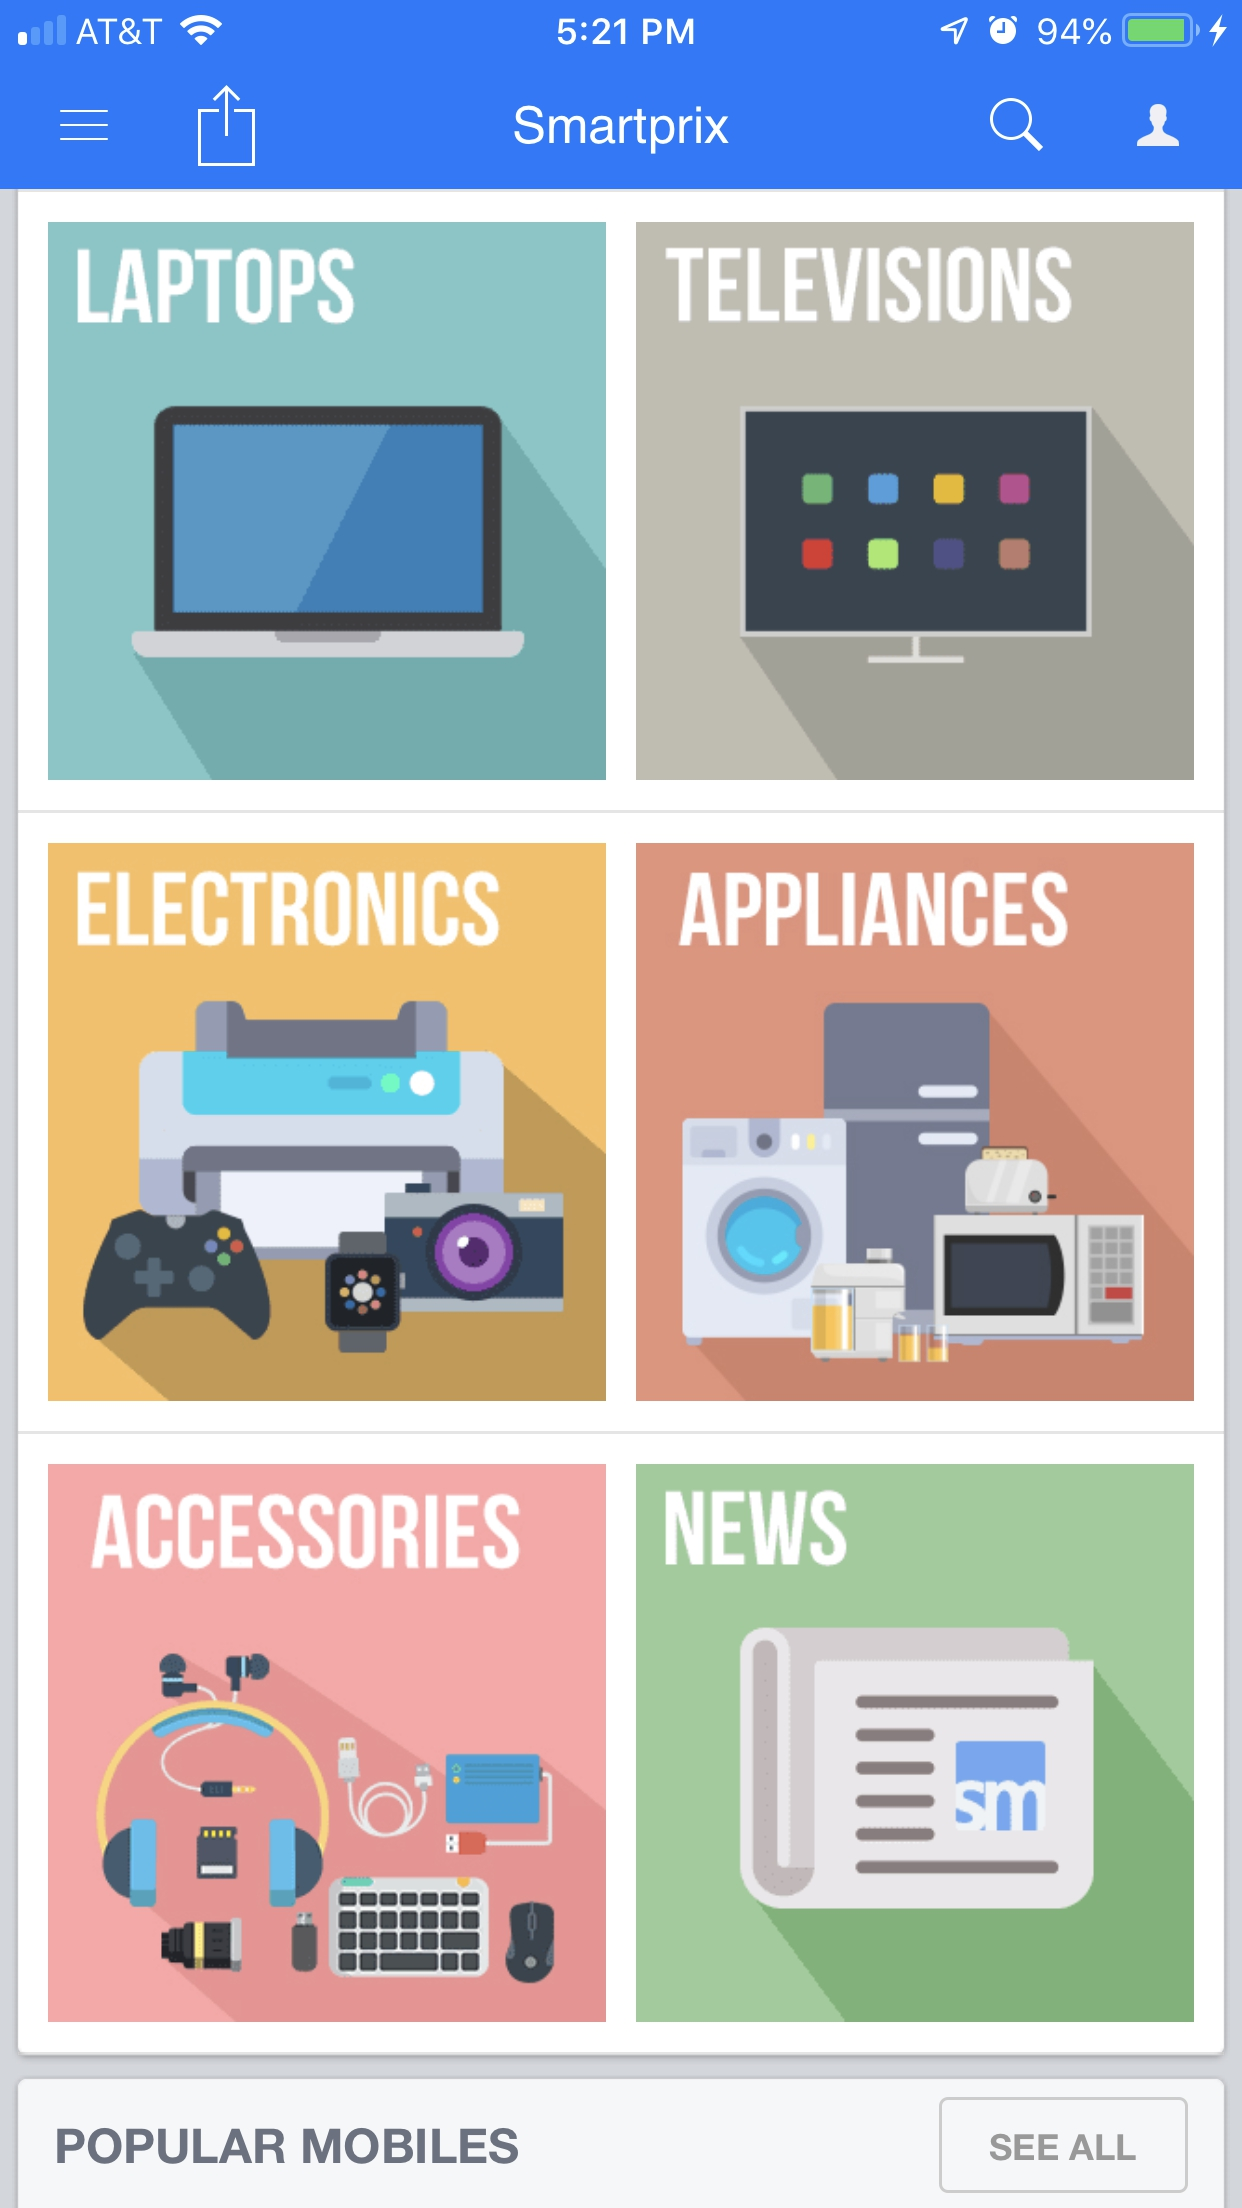Icon: (199, 86, 256, 168), (989, 97, 1043, 152), (1136, 103, 1178, 147), (61, 111, 111, 143)
Image: (49, 221, 607, 781), (635, 221, 1193, 781), (49, 843, 607, 1403), (49, 1463, 607, 2023), (635, 845, 1193, 1403), (635, 1463, 1193, 2021)
Text: (89, 1494, 522, 1570), (77, 870, 500, 948), (666, 246, 1074, 325), (676, 870, 1069, 949), (77, 249, 356, 326), (58, 2128, 520, 2166), (666, 1491, 848, 1567), (514, 105, 729, 156)
TextButton: (939, 2096, 1189, 2193)
UpperTaskBar: (2, 2, 1242, 49)
